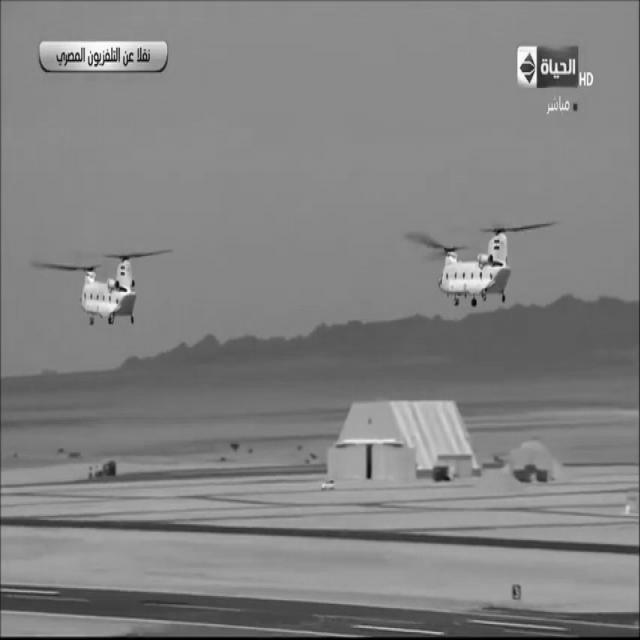helikopter: (404, 201, 544, 336), (48, 238, 180, 350)
